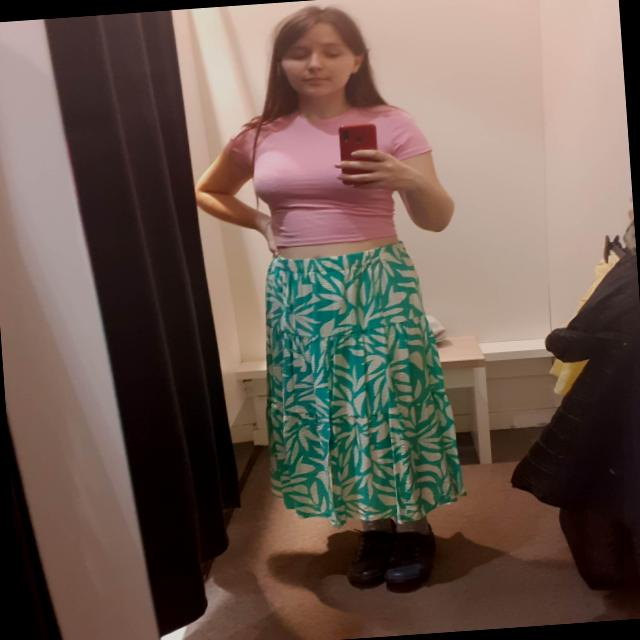Tshirt: (224, 99, 438, 250)
skirt: (254, 237, 468, 533)
